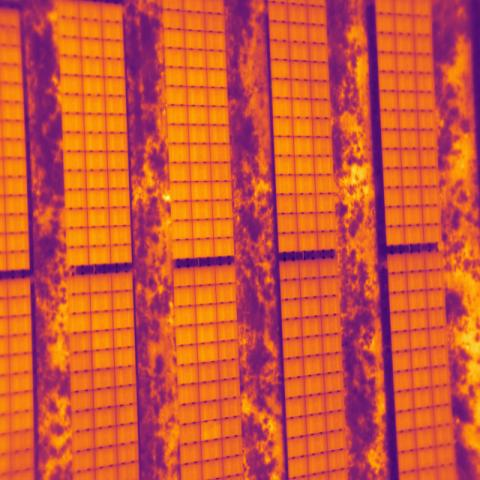fault: (200, 420, 223, 442)
